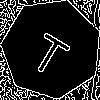T: (26, 24, 77, 79)
